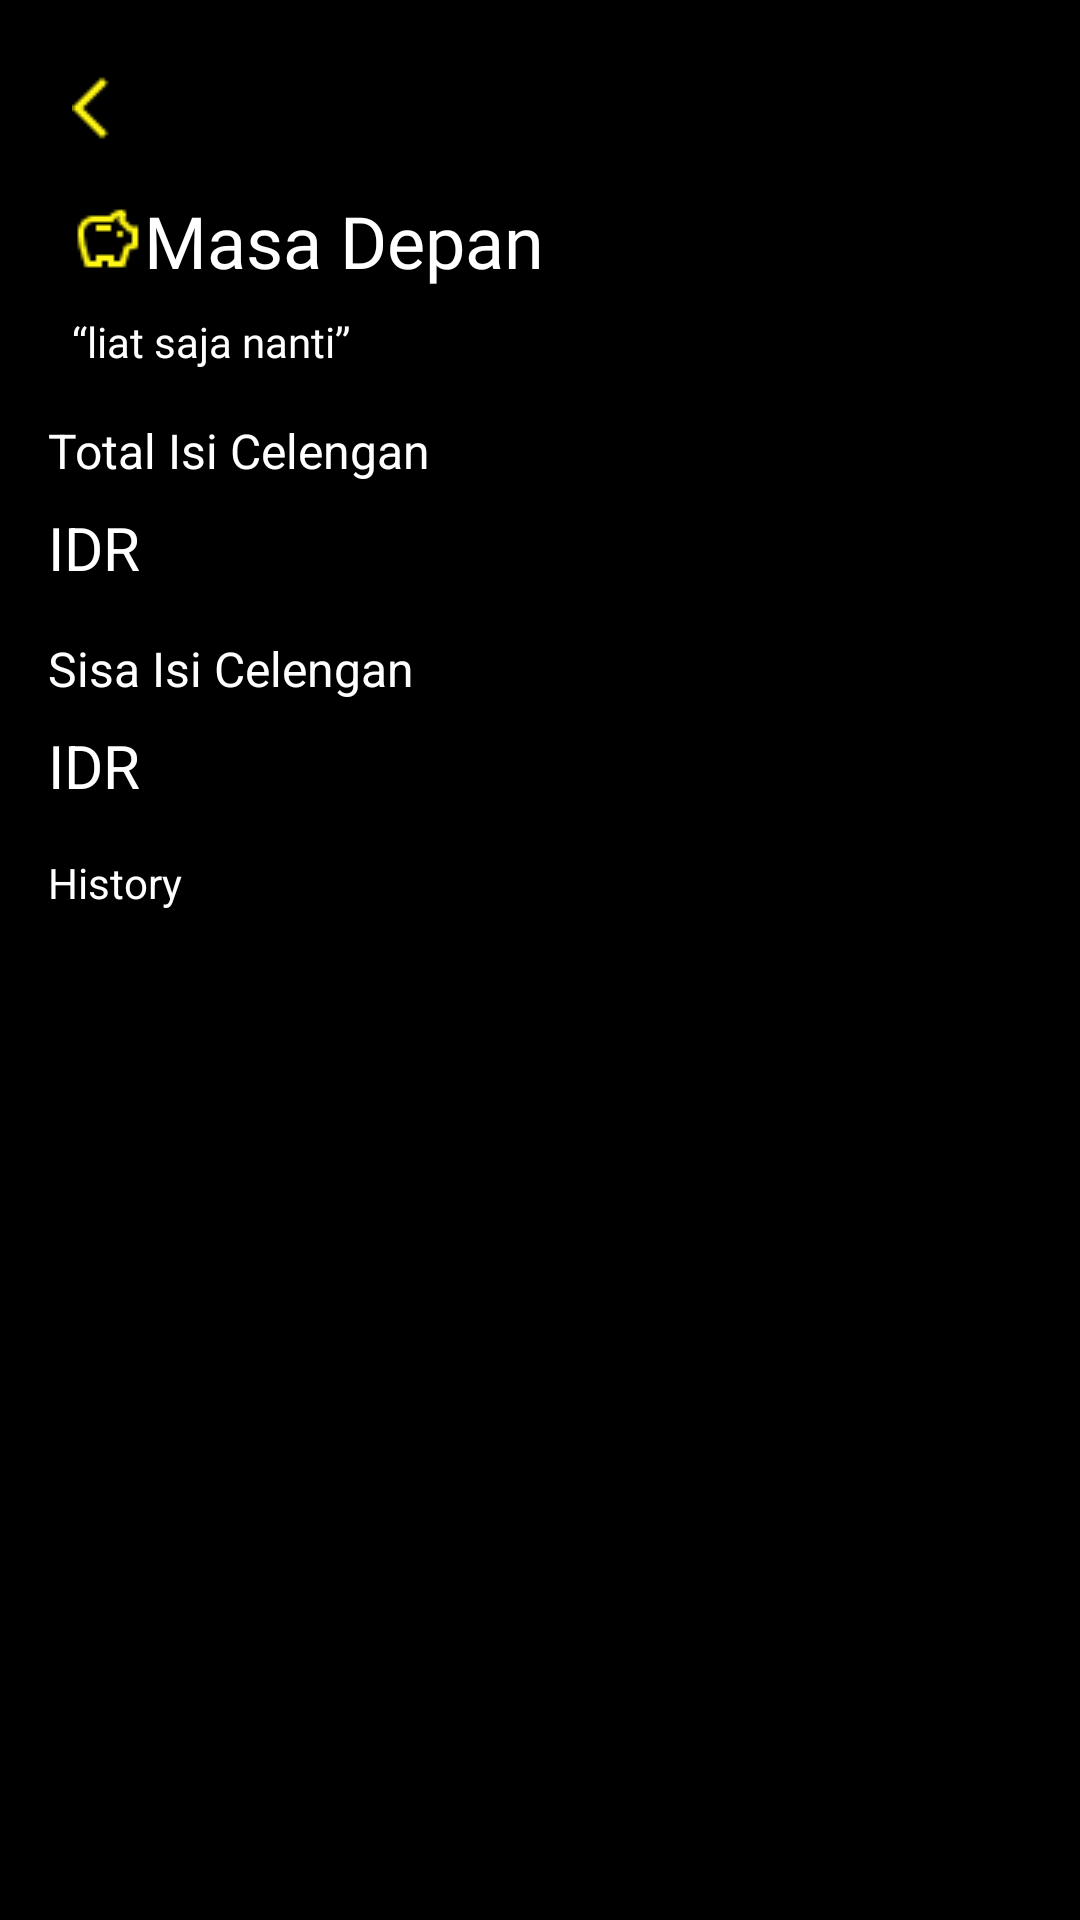

Point at icon controls on the screen. Image size 1080*1920, points as (x,y).
arrow back: (90,108)
